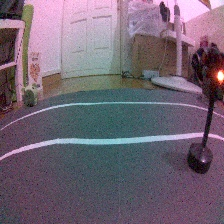amber: (186, 53, 224, 174)
